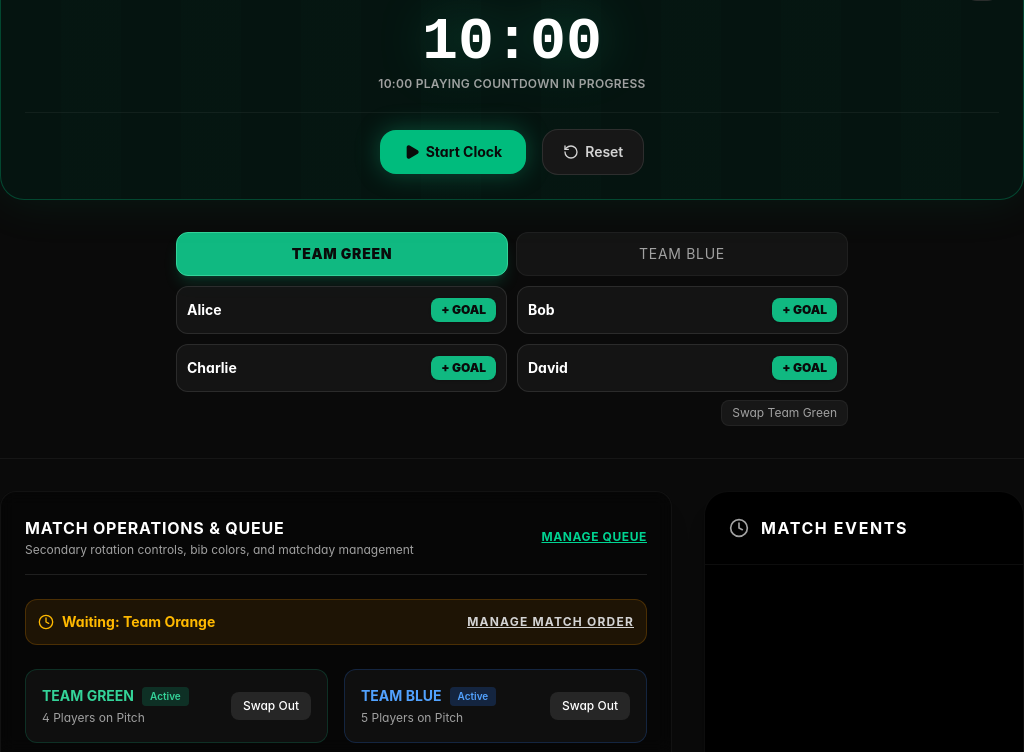
Test: ActiveMatchControlCenter Integration Suite › 3. Existing AssistModal Integration › cancels modal and dismisses without recording a goal when "Cancel" is clicked
(page scrolled)
// Initiate goal for Charlie (p3)
Click the button with test id "player-card-p3" at coordinates (212, 368), box [176,344,507,392]
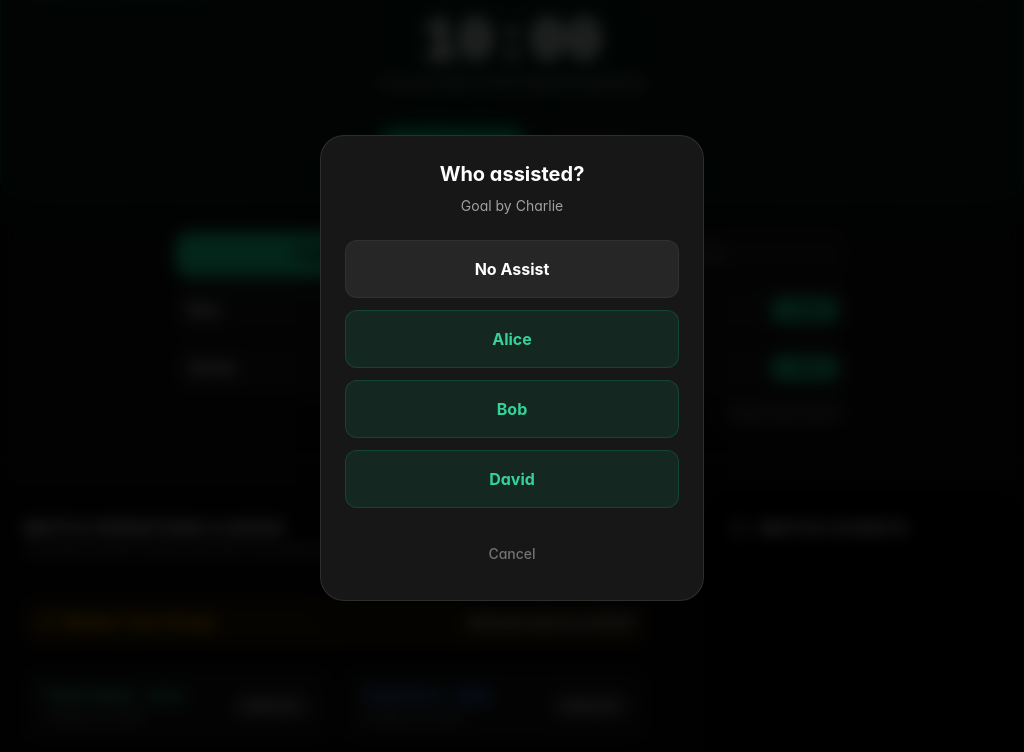
Expected: the heading "Who assisted?" is shown, [440,162,584,186]
// Click Cancel
Click the button "Cancel" at coordinates (512, 554), box [345,532,679,576]
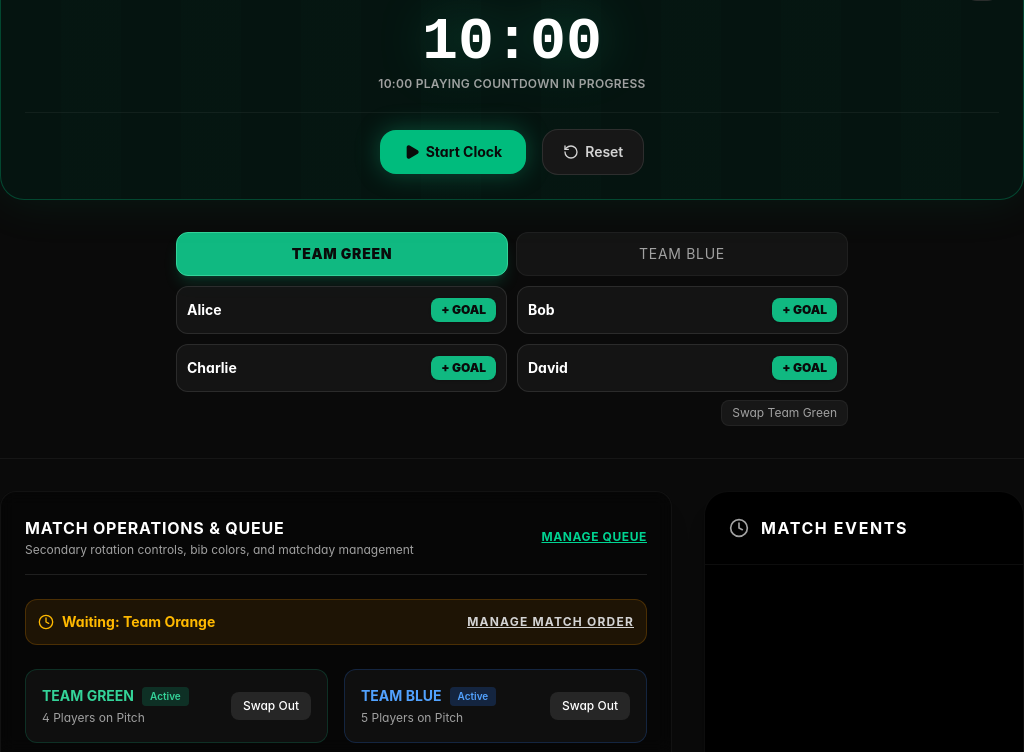
Expected: the heading "Who assisted?" is gone
